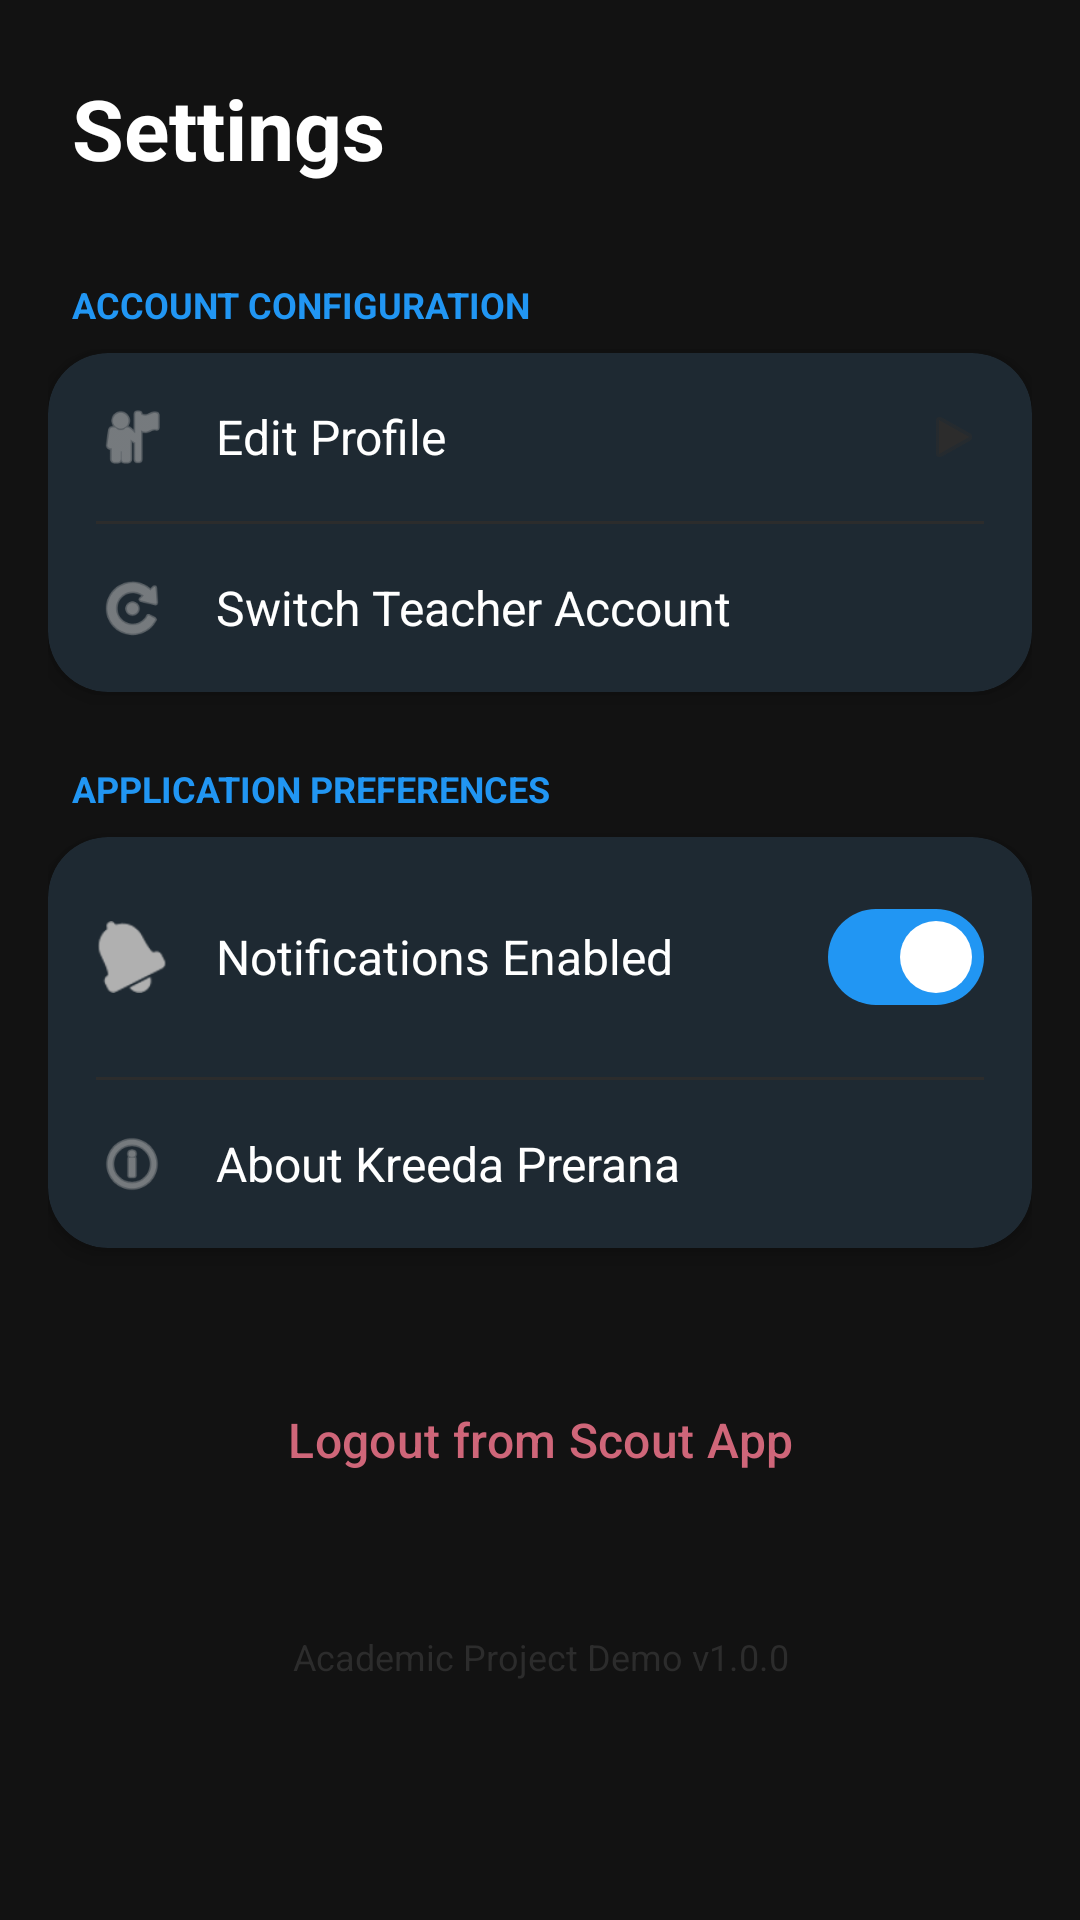

Icons on this 1080*1920 Android screen, each with the point to tap as (x,y):
info details: (132,1164)
myplaces: (133,437)
popup reminder: (132,957)
rotate: (132,608)
